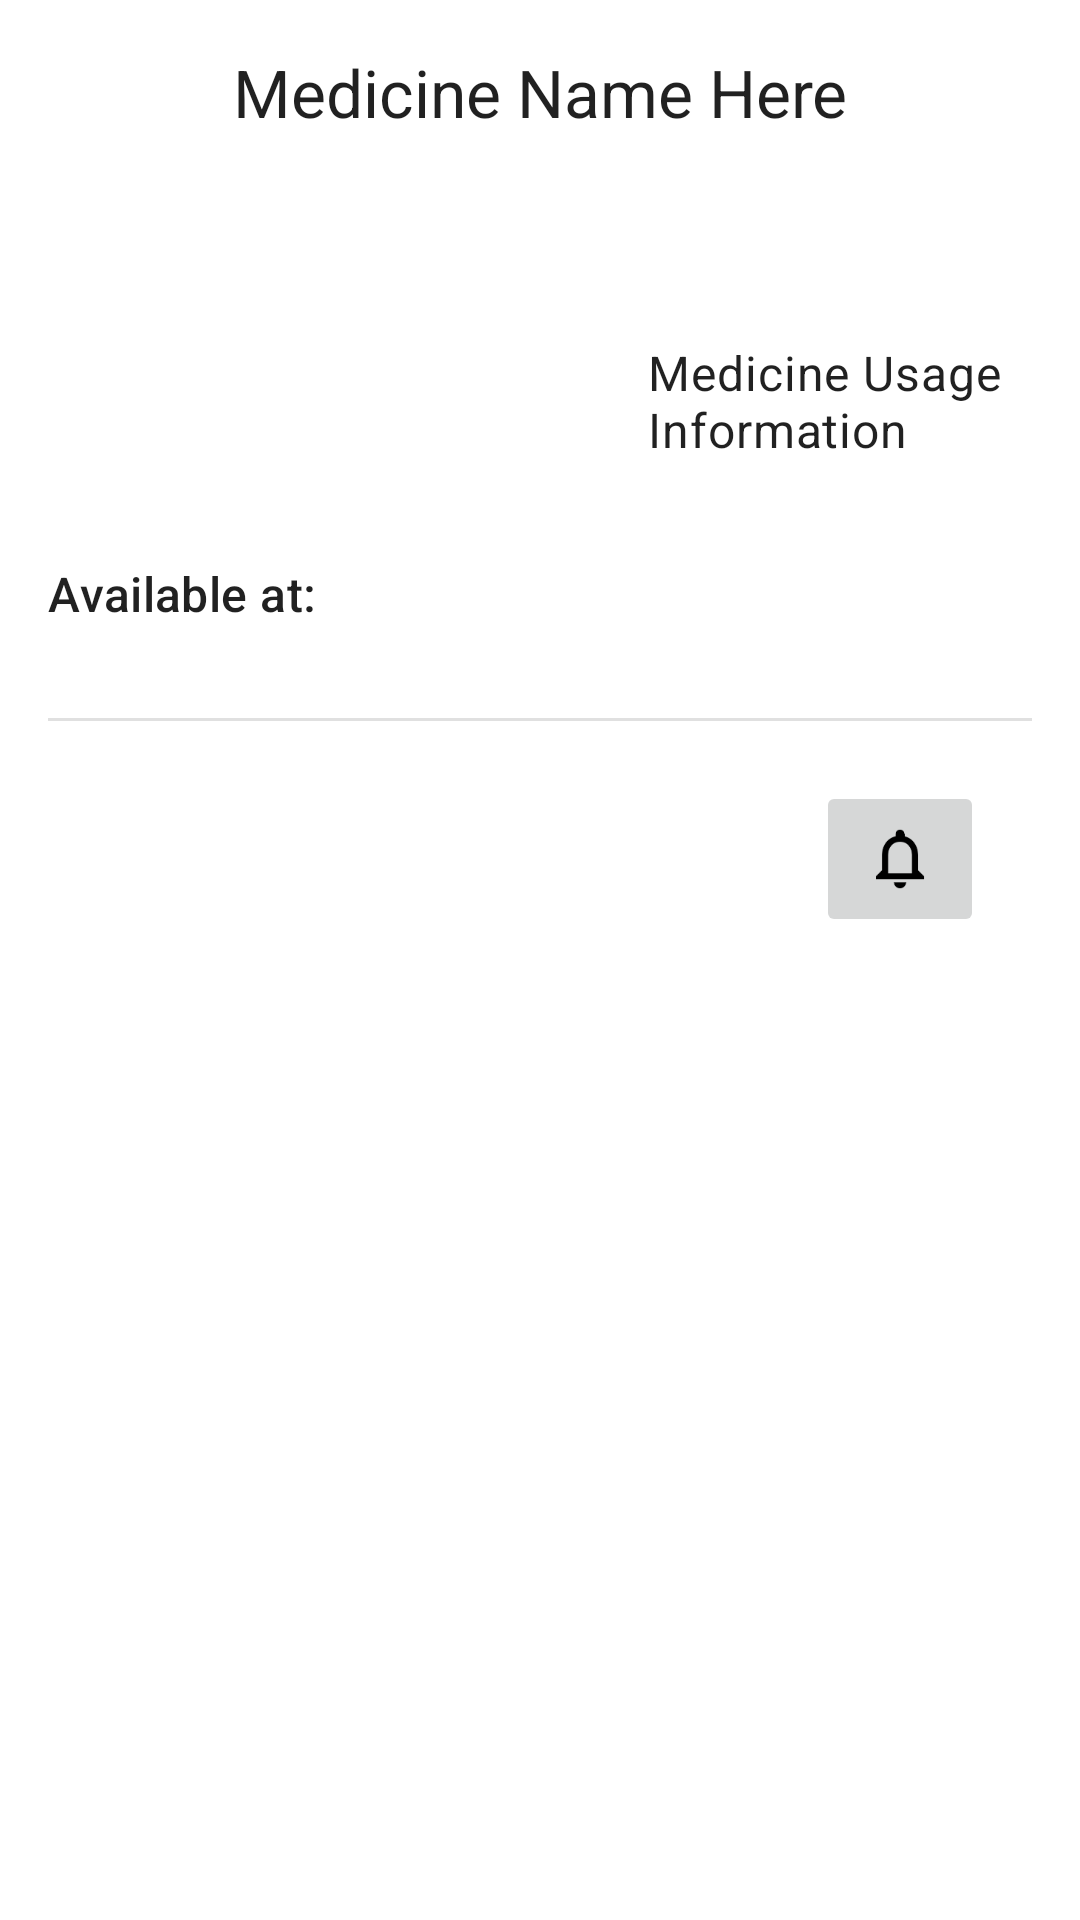

Where icons sit on this 1080x1920 app screen, as bbox=(x1, y1, x2, y2):
notifications: bbox=(828, 799, 972, 919)
